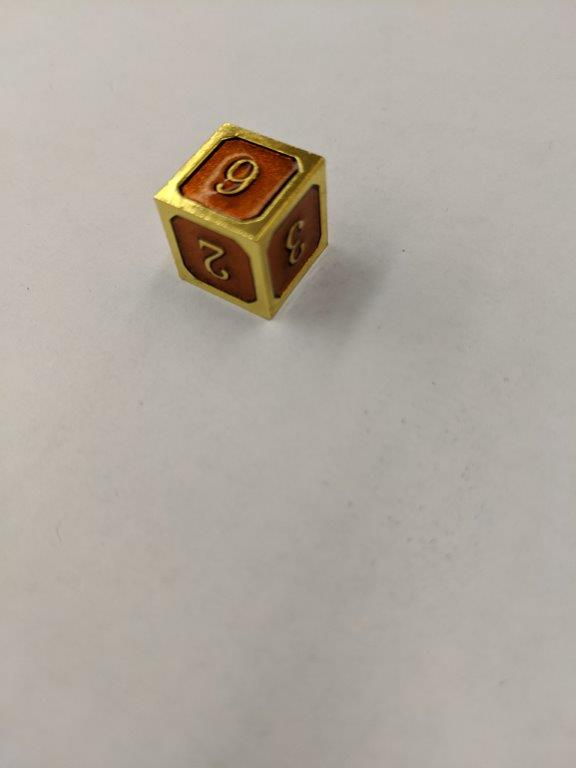d6-6: (155, 121, 329, 318)
